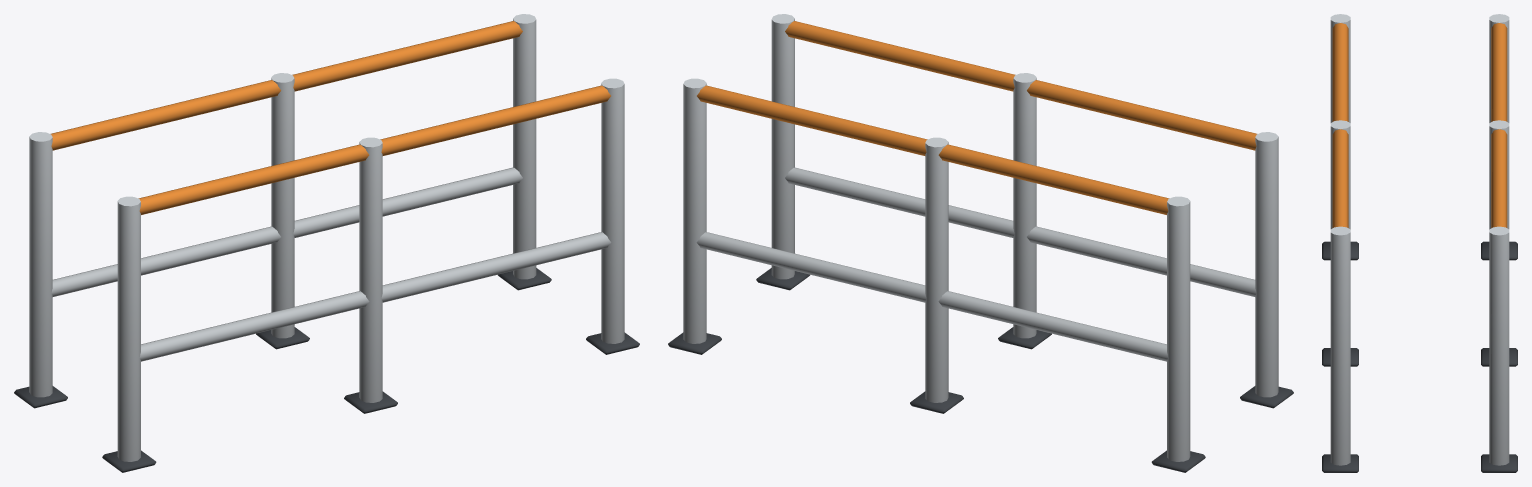
File: CartCorral_Indoor_20.glb
The picture shows the model from 3 angles, left to right: view 1: azimuth 30°, elevation 25°; view 2: azimuth 150°, elevation 25°; view 3: azimuth 270°, elevation 25°; orthographic projection. The views are drawn at different scales.
Visible parts, largest first — view 1: SM_CartCorral_Indoor_20; view 2: SM_CartCorral_Indoor_20; view 3: SM_CartCorral_Indoor_20.
Boxes of the visible parts, box(x1,y1,x2,y2) form: SM_CartCorral_Indoor_20: box(14, 14, 639, 472); SM_CartCorral_Indoor_20: box(668, 14, 1293, 472); SM_CartCorral_Indoor_20: box(1322, 14, 1517, 472).
Bounding box in the file's own units: 2.04 × 0.98 × 0.74.
Materials: 1 (1 with a texture image).
